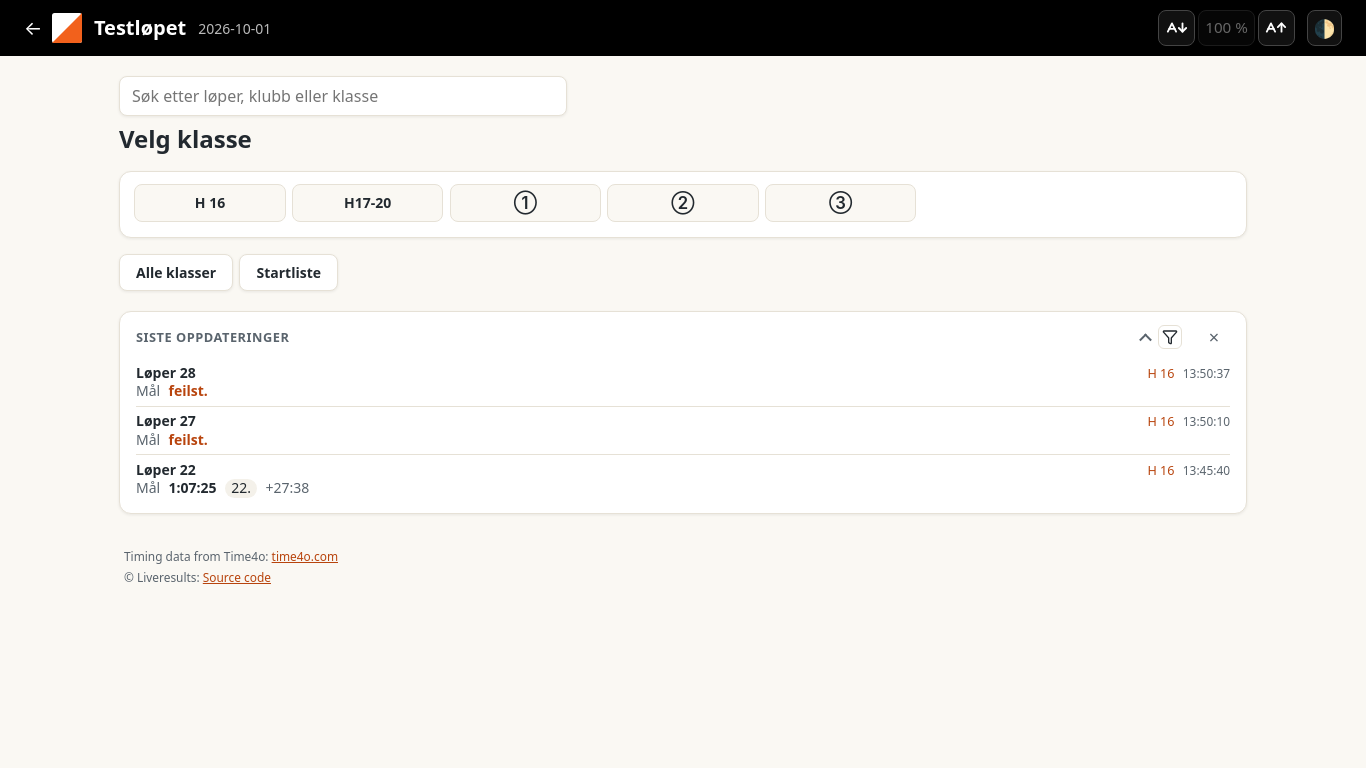
Test case: App › lets the latest updates follow only the favourites
Click the button named "Velg klasser" at {"x": 1170, "y": 337}, box [1158, 325, 1182, 349]
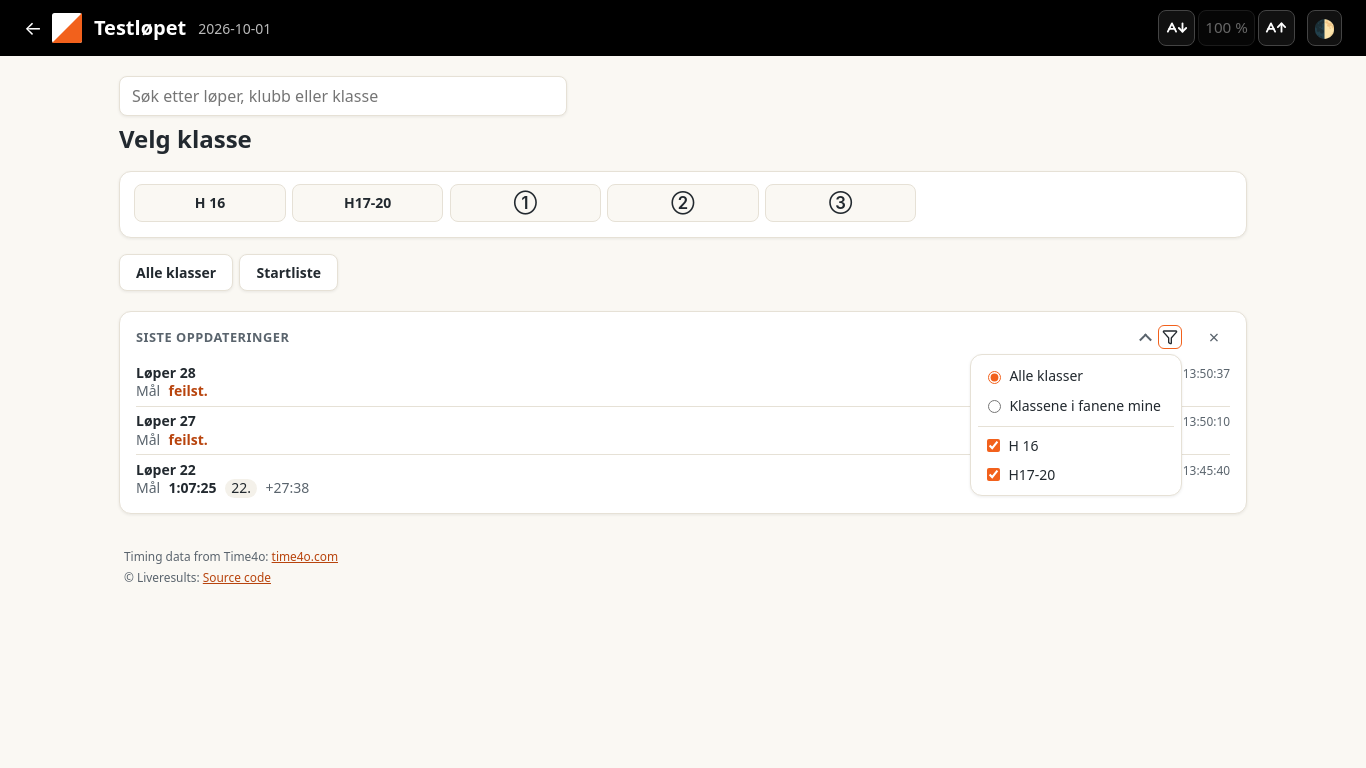
Expected: the radio button labelled "Favorittene mine" is not shown
Click the button named "Velg klasser" at {"x": 1170, "y": 337}, box [1158, 325, 1182, 349]
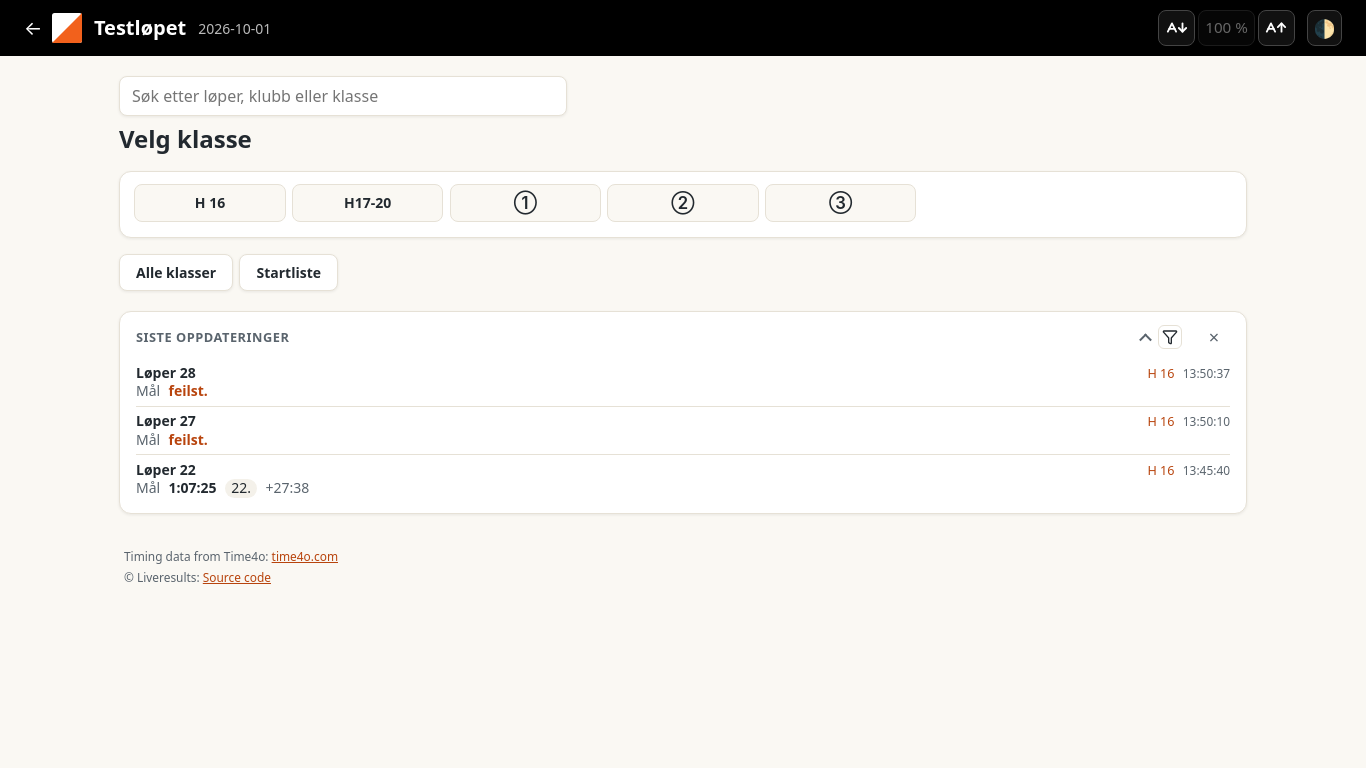
Type "Løper 28" into the search field at {"x": 343, "y": 96}, box [119, 76, 567, 116]
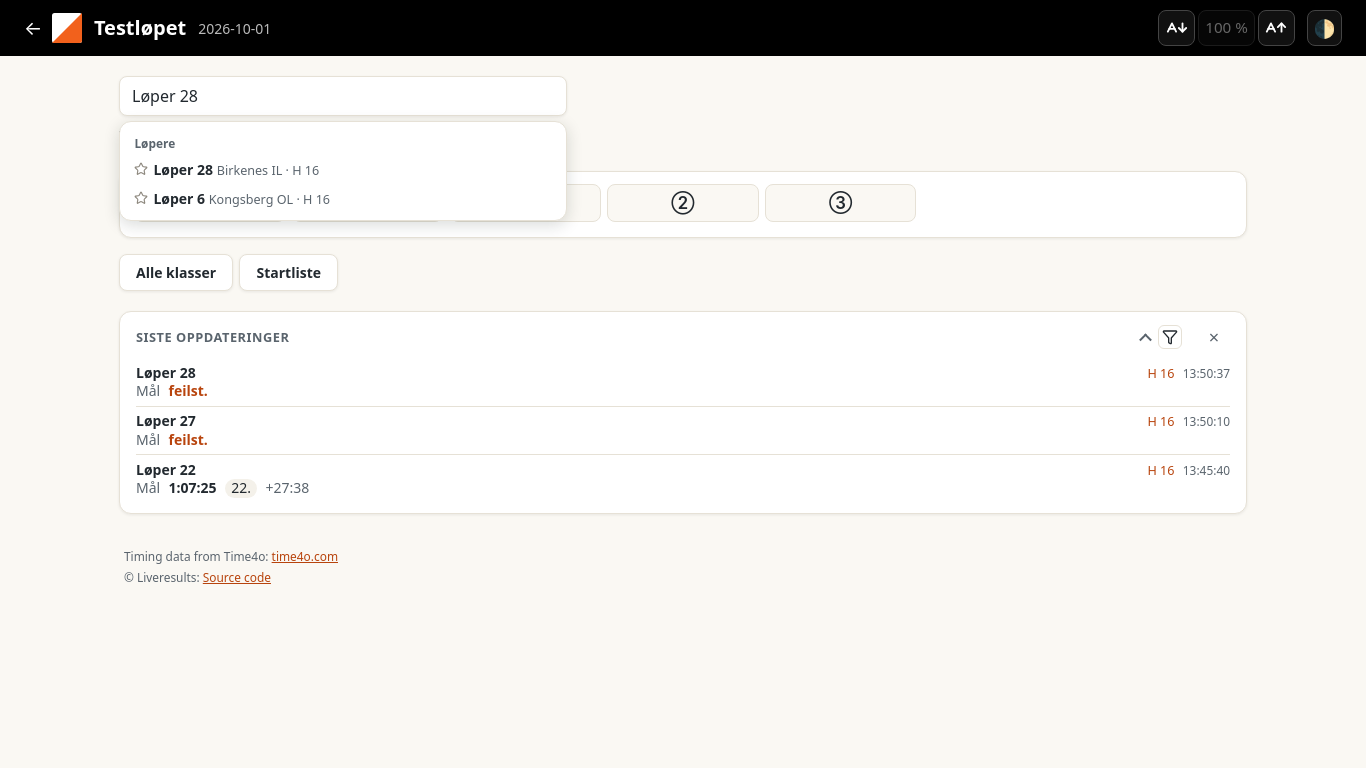
Click the button named "Legg til i favoritter: Løper 28" at {"x": 141, "y": 169}, box [129, 157, 153, 181]
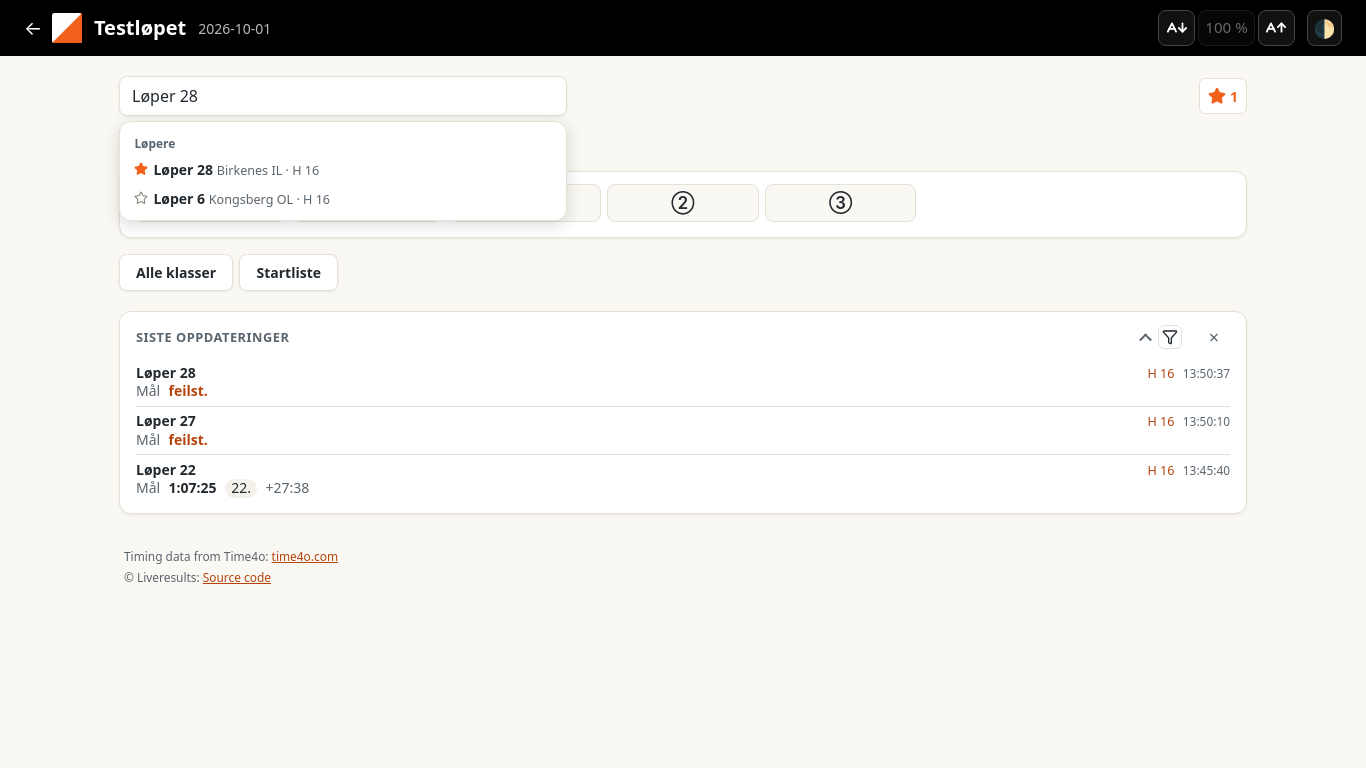
Click the button named "Velg klasser" at {"x": 1170, "y": 337}, box [1158, 325, 1182, 349]
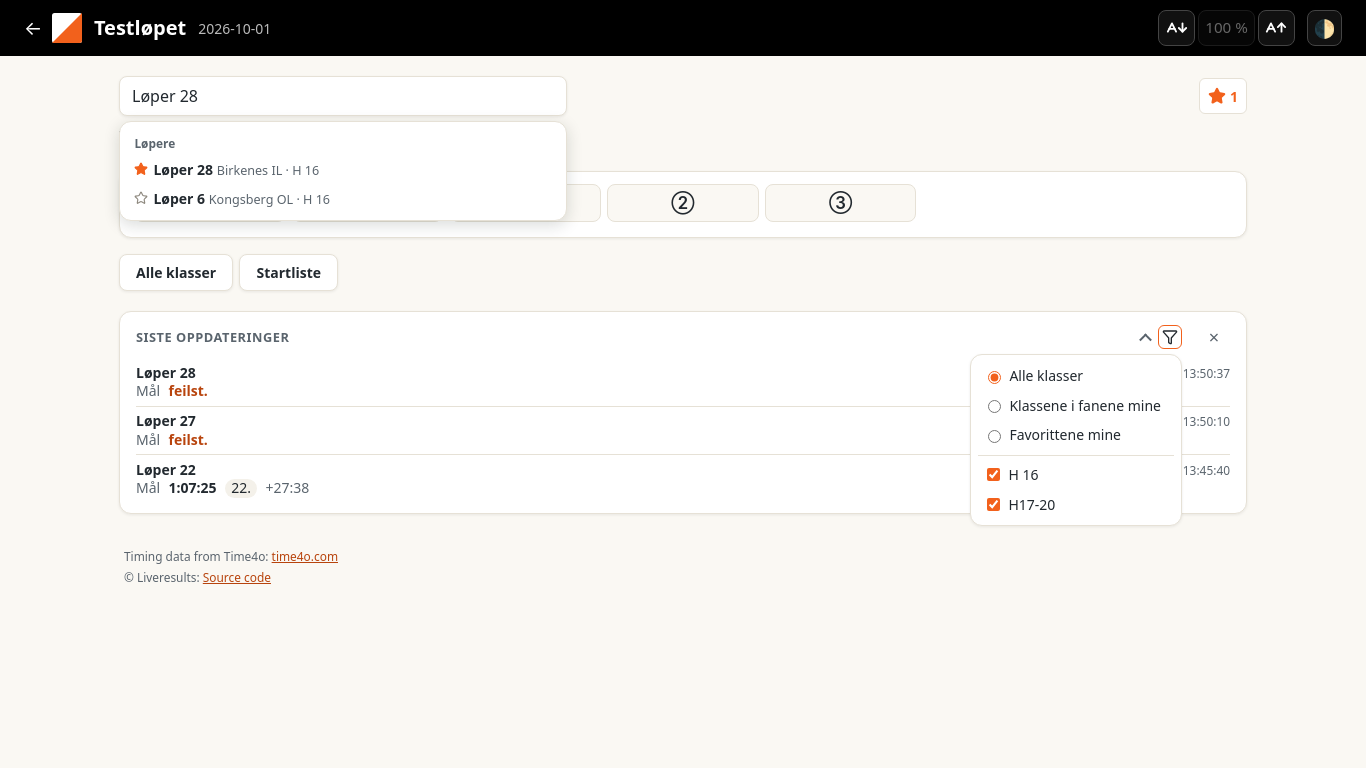
Click the radio button labelled "Favorittene mine" at {"x": 994, "y": 436}, box [988, 430, 1001, 443]
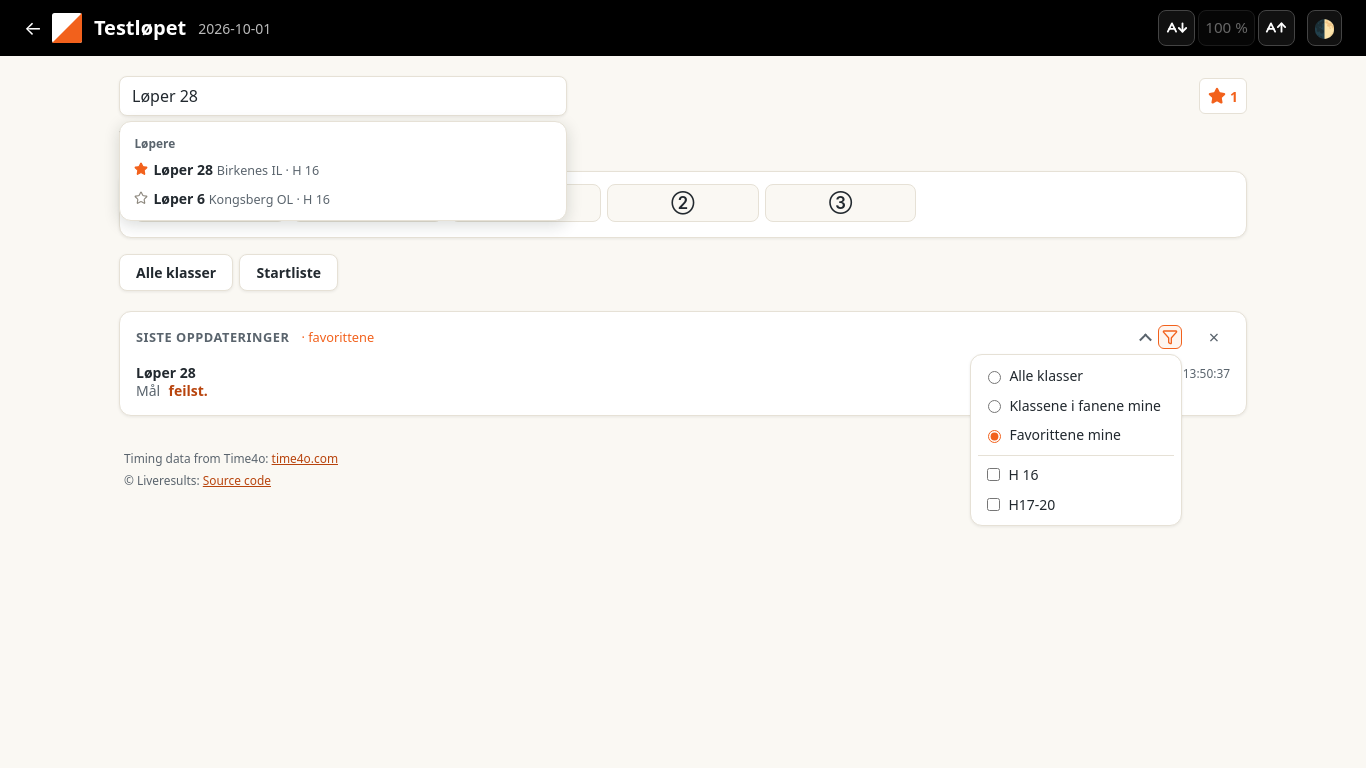
Expected: the list item "Løper 28 H 16 13:50:37 Mål feilst." is shown, [136, 358, 1230, 406]
Expected: the text "· favorittene" is shown, [301, 328, 374, 347]
